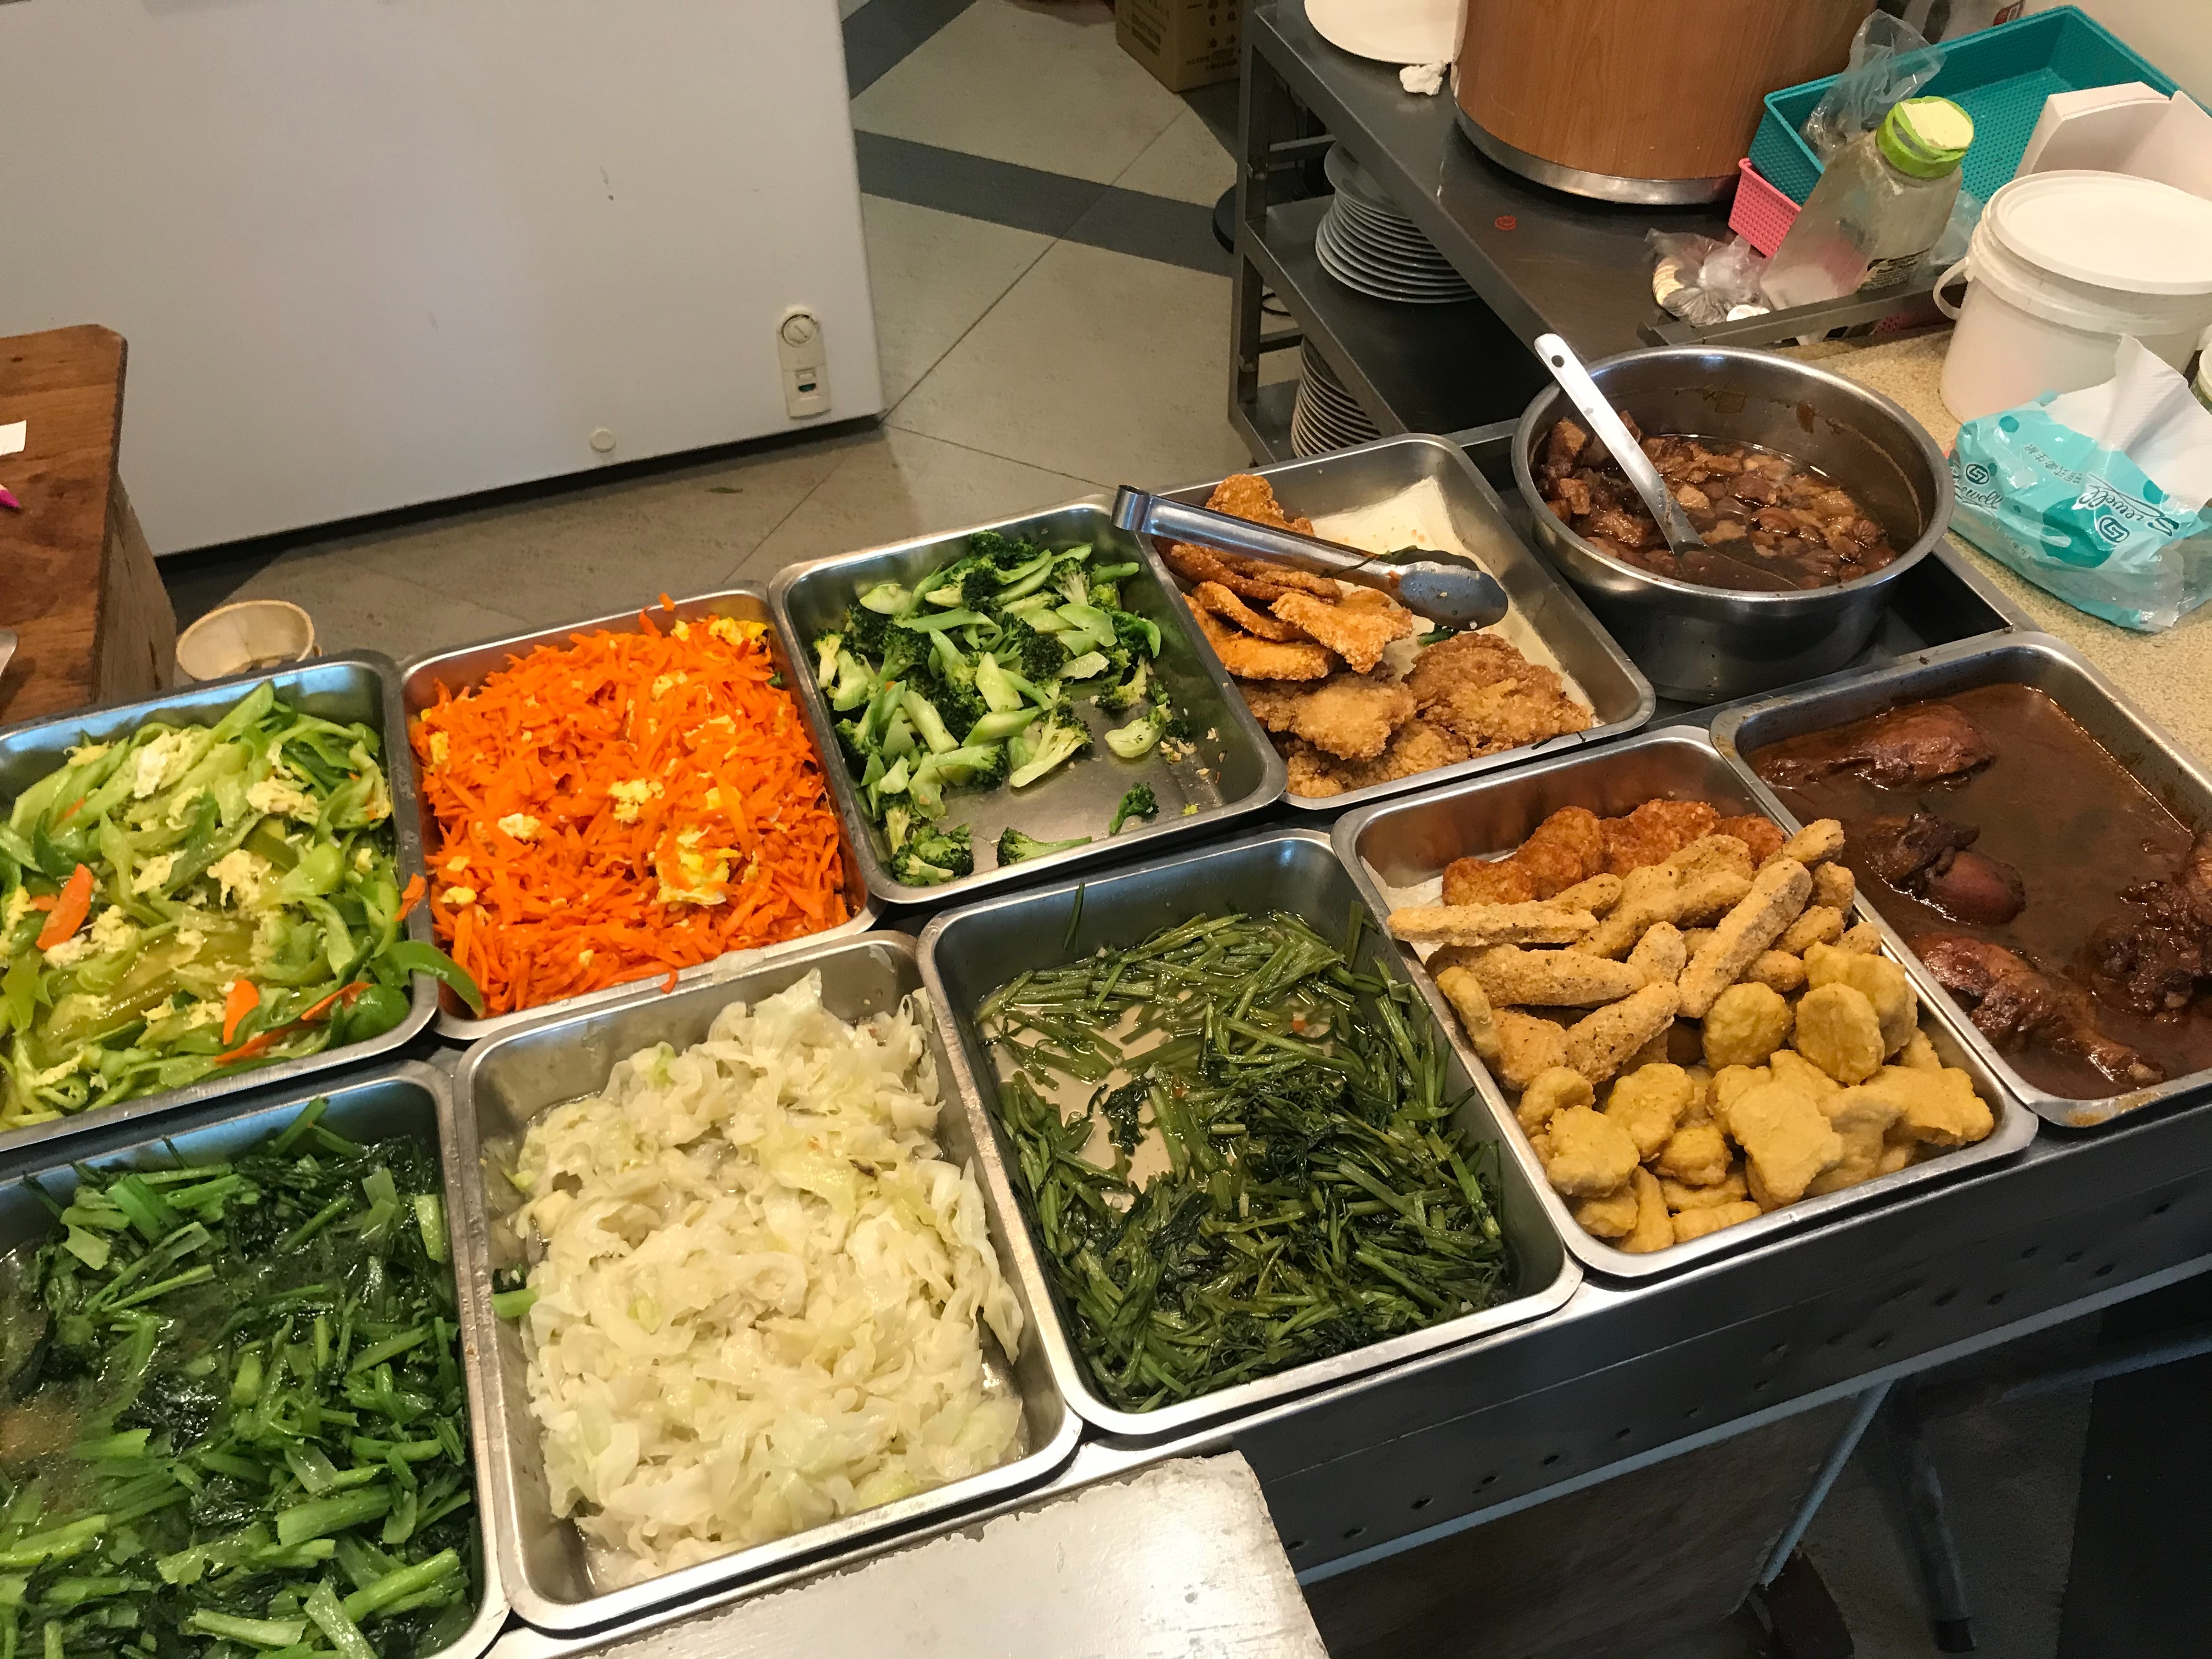carrot_eggs: (453, 650, 798, 962)
chicken_nuggets: (1533, 1035, 1972, 1183)
chinese_cabbage: (557, 1047, 935, 1530)
fried_chicken: (1390, 641, 1580, 744)
water_spinach: (1028, 988, 1416, 1326)
